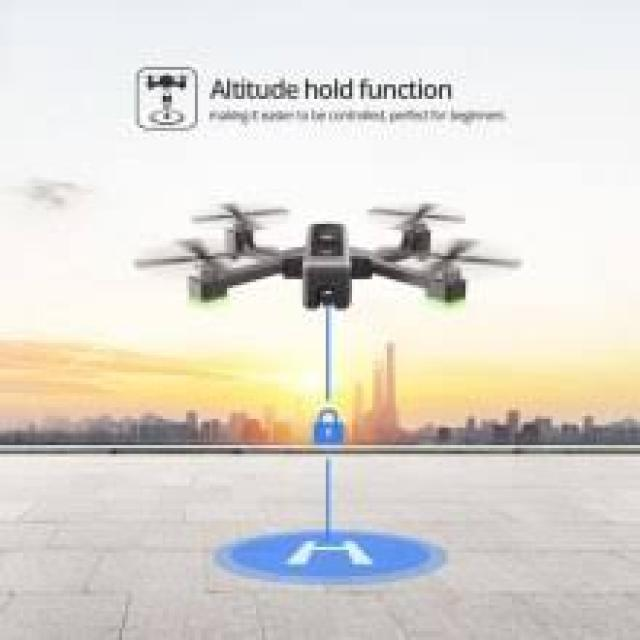drone: (132, 184, 511, 334)
